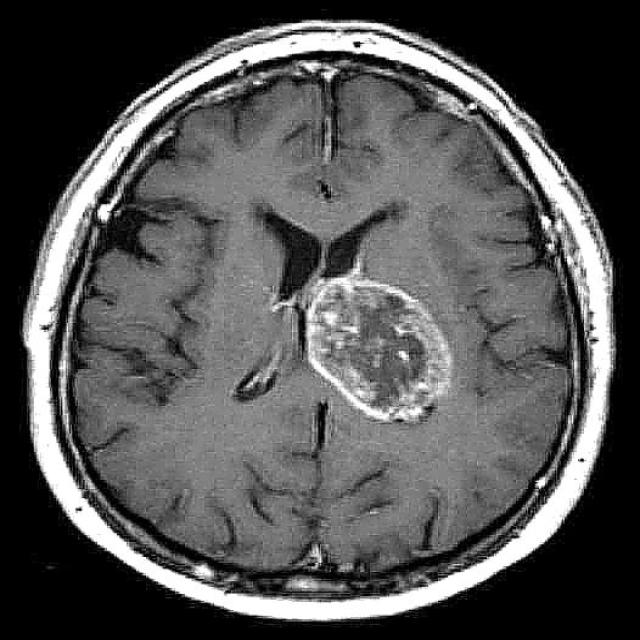Tumor-Cell: (290, 278, 454, 440)
